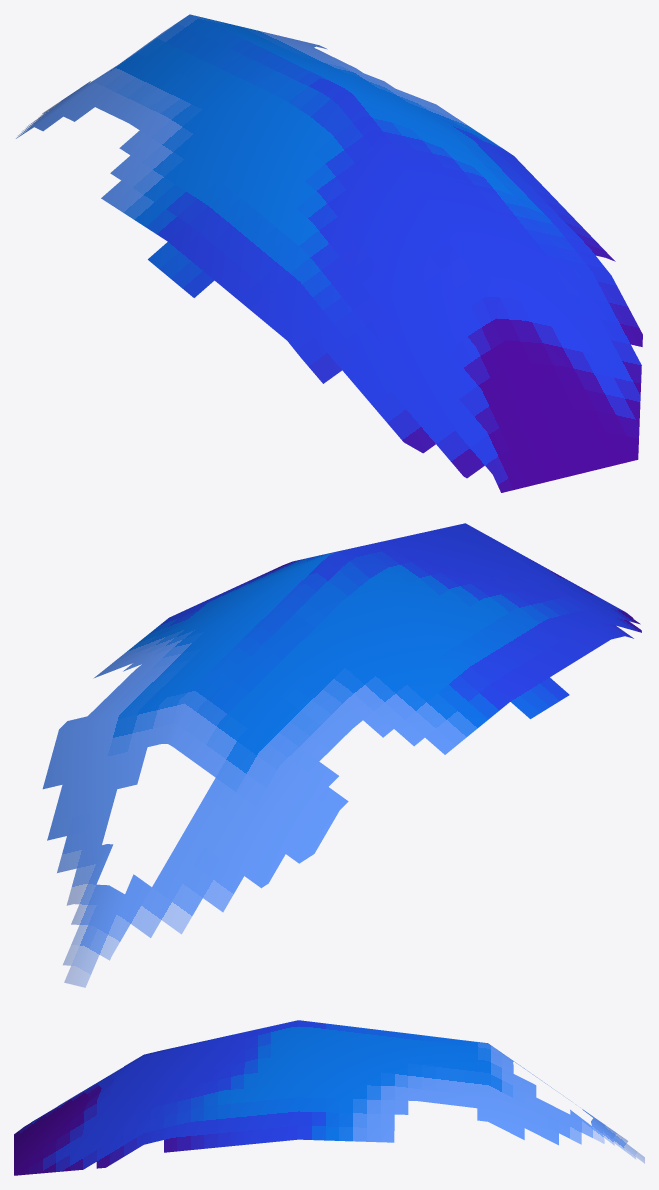
The model's file is SM_BlueLeaf.FBX.
3 views of the same model, one above another, from view 1: azimuth 30°, elevation 25°; view 2: azimuth 150°, elevation 25°; view 3: azimuth 270°, elevation 25° (orthographic). The views are drawn at different scales.
Visible parts, largest first — view 1: BlueLeaf; view 2: BlueLeaf; view 3: BlueLeaf.
Boxes of the visible parts, box(x1,y1,x2,y2) form: BlueLeaf: box(16, 14, 642, 492); BlueLeaf: box(42, 523, 641, 987); BlueLeaf: box(14, 1020, 644, 1175).
Size of the model in its own units: 16.23 by 9.28 by 36.83.
